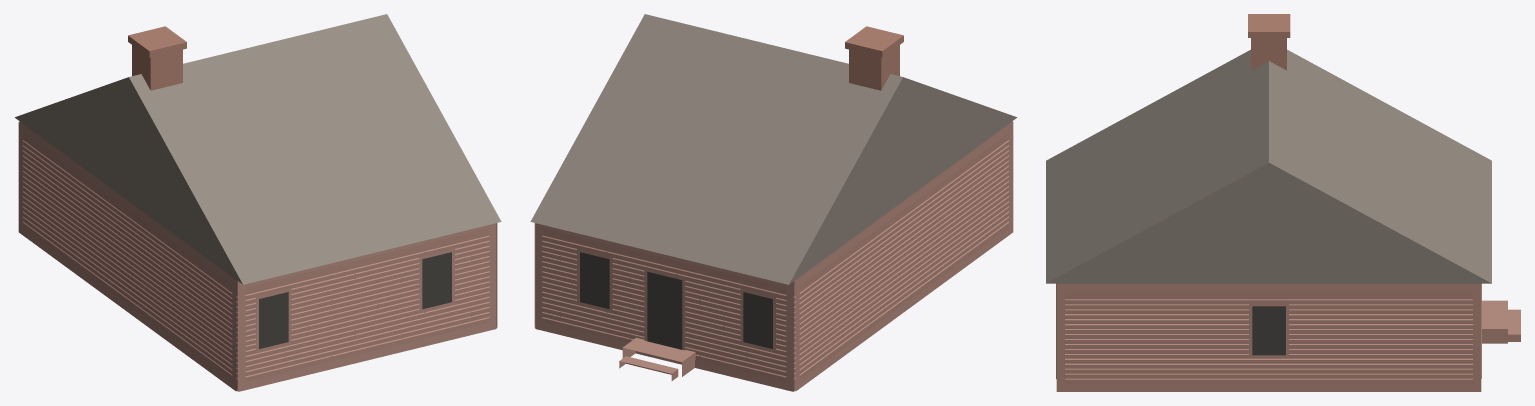
The model's file is recon_1835_blk_south_water_lasalle_d5_01__inferred_1835.glb.
3 renders of one model, left to right at view 1: azimuth 30°, elevation 25°; view 2: azimuth 150°, elevation 25°; view 3: azimuth 270°, elevation 25°, orthographic. The views are drawn at different scales.
Visible parts, largest first — view 1: recon_1835_blk_south_water_lasalle_d5_01__inferred_1835; view 2: recon_1835_blk_south_water_lasalle_d5_01__inferred_1835; view 3: recon_1835_blk_south_water_lasalle_d5_01__inferred_1835.
Part boxes in pixels (x1=…): recon_1835_blk_south_water_lasalle_d5_01__inferred_1835: x1=15, y1=14, x2=501, y2=391; recon_1835_blk_south_water_lasalle_d5_01__inferred_1835: x1=530, y1=14, x2=1016, y2=391; recon_1835_blk_south_water_lasalle_d5_01__inferred_1835: x1=1046, y1=14, x2=1520, y2=391.
Size of the model in its own units: 6.83 by 6.64 by 11.02.
